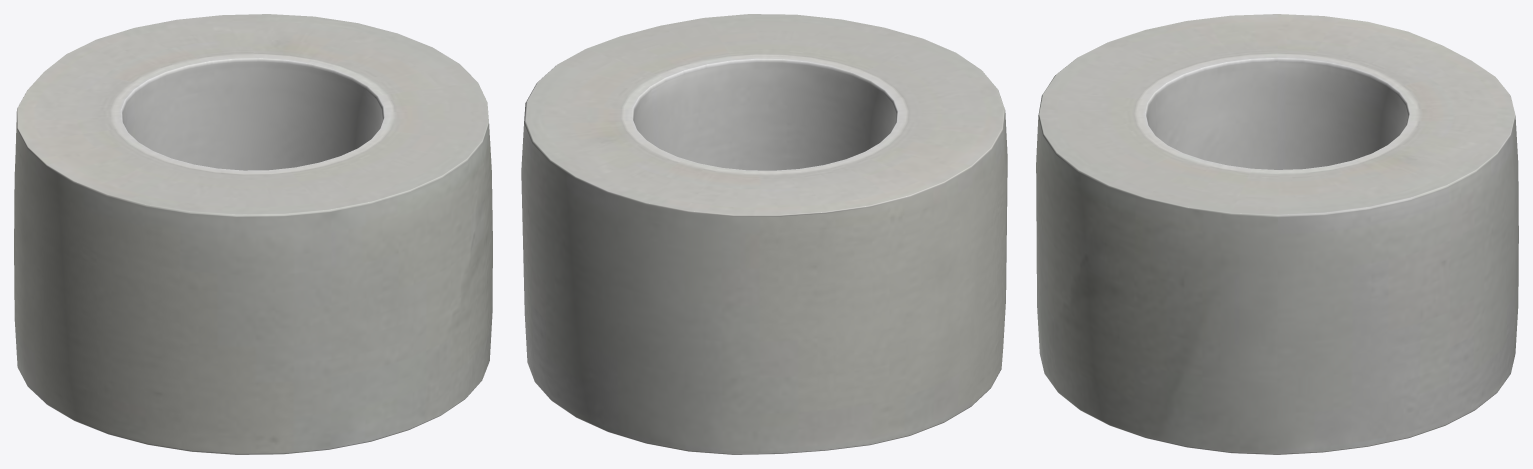
Rendered from medical_tape.glb.
3 views of the same model, side by side, from view 1: azimuth 30°, elevation 25°; view 2: azimuth 150°, elevation 25°; view 3: azimuth 270°, elevation 25° (orthographic).
Visible parts, largest first — view 1: medical_tape; view 2: medical_tape; view 3: medical_tape.
Boxes of the visible parts, <box> form: medical_tape: <box>14,14,492,454</box>; medical_tape: <box>521,14,1007,454</box>; medical_tape: <box>1036,14,1518,454</box>.
Bounding box in the file's own units: 0.0453 × 0.025 × 0.0452.
Materials: 1 (1 with a texture image).
